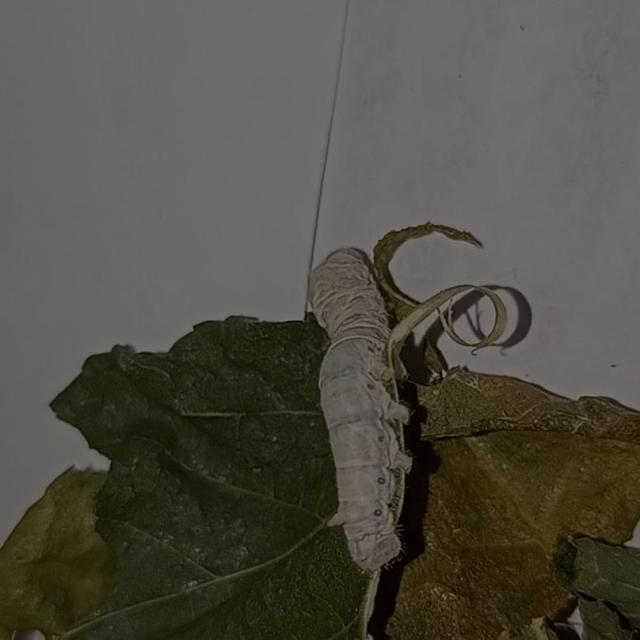Healthy: (293, 234, 437, 581)
